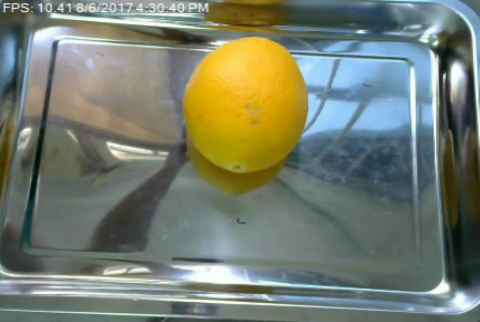Orange: (181, 35, 308, 171)
